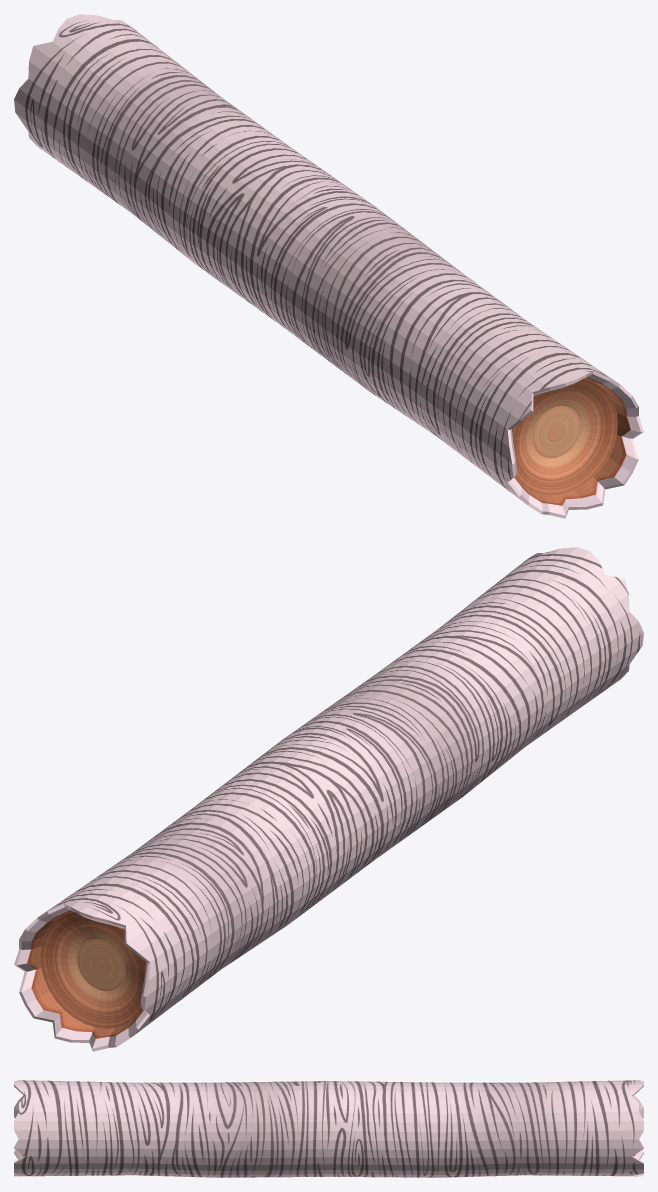
The model's file is Log.fbx.
3 renders of one model, top to bottom at view 1: azimuth 30°, elevation 25°; view 2: azimuth 150°, elevation 25°; view 3: azimuth 270°, elevation 25°, orthographic. The views are drawn at different scales.
Visible parts, largest first — view 1: Log; view 2: Log; view 3: Log.
Part boxes in pixels (x1,y1,x2,y2): Log: [14, 14, 643, 518]; Log: [14, 547, 643, 1051]; Log: [14, 1080, 643, 1177].
Bounding box in the file's own units: 57.16 × 58.12 × 374.
